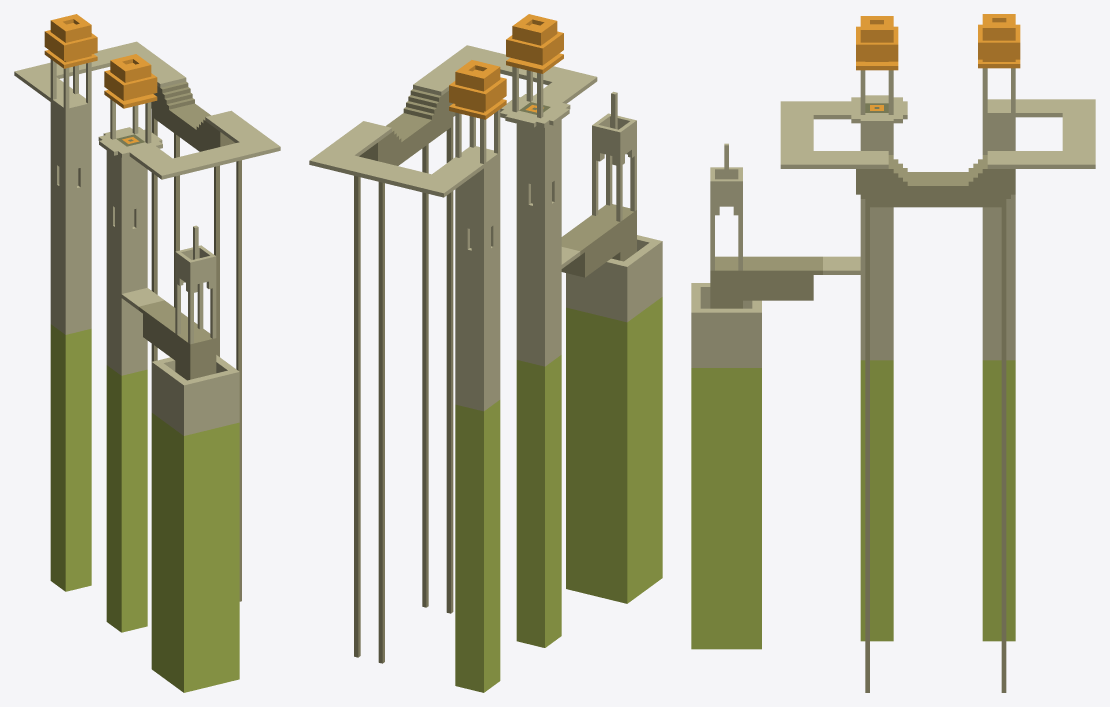
The model's file is cena4.obj.
3 views of the same model, side by side, from view 1: azimuth 30°, elevation 25°; view 2: azimuth 150°, elevation 25°; view 3: azimuth 270°, elevation 25° (orthographic). The views are drawn at different scales.
Size of the model in its own units: 3.7 by 14.4 by 8.6.
1 material, 1 textured.
